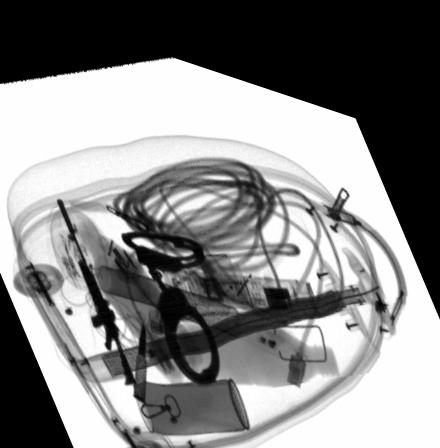Baton: (161, 261, 320, 292)
Bullet: (132, 311, 147, 390)
Gun: (54, 192, 137, 375)
HandCuffs: (122, 220, 218, 372)
